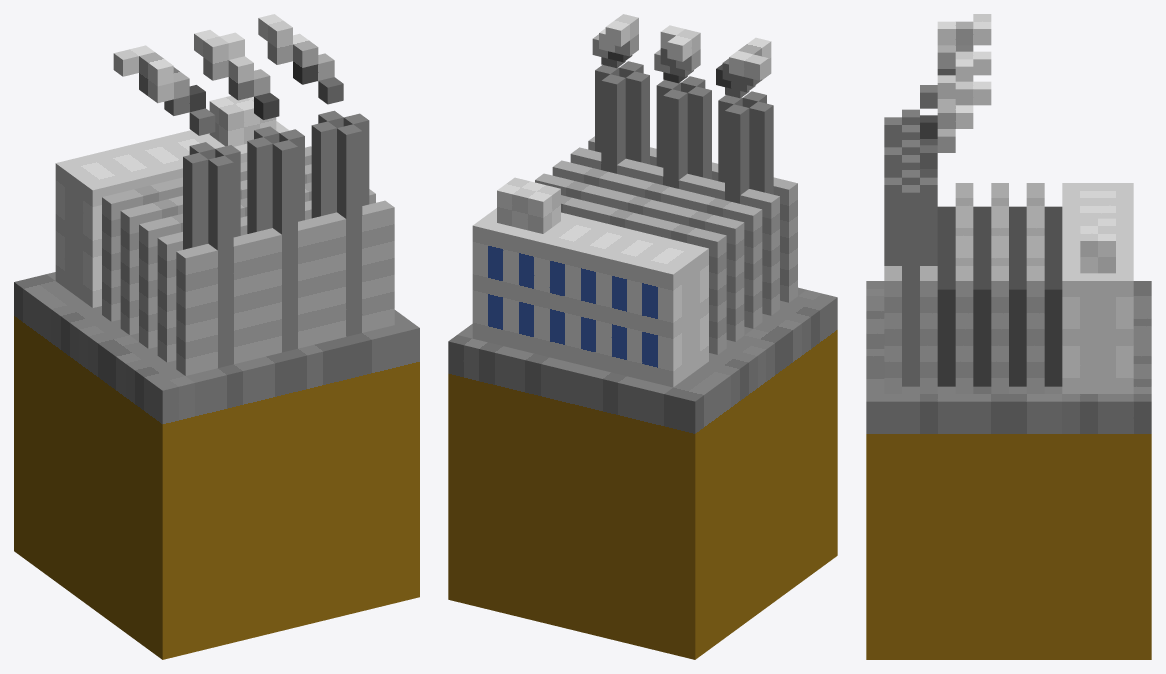
File: large_factory.gltf
3 views of the same model, side by side, from view 1: azimuth 30°, elevation 25°; view 2: azimuth 150°, elevation 25°; view 3: azimuth 270°, elevation 25° (orthographic). The views are drawn at different scales.
Visible parts, largest first — view 1: Content-Mesh; view 2: Content-Mesh; view 3: Content-Mesh.
Part boxes in pixels (x1,y1,x2,y2): Content-Mesh: (14,14,419,659); Content-Mesh: (448,14,837,659); Content-Mesh: (866,14,1151,659).
Size of the model in its own units: 16 by 33 by 16.
1 material, 1 textured.
